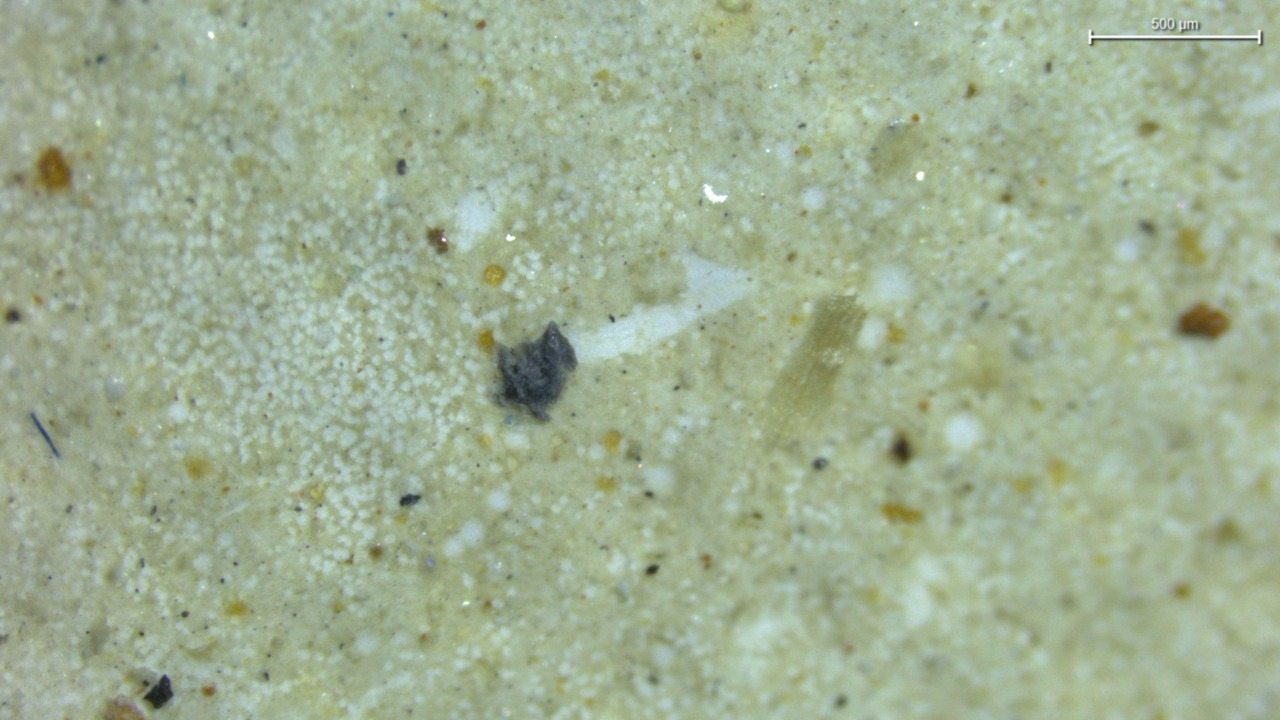microplastic_fragment: (497, 322, 577, 419)
